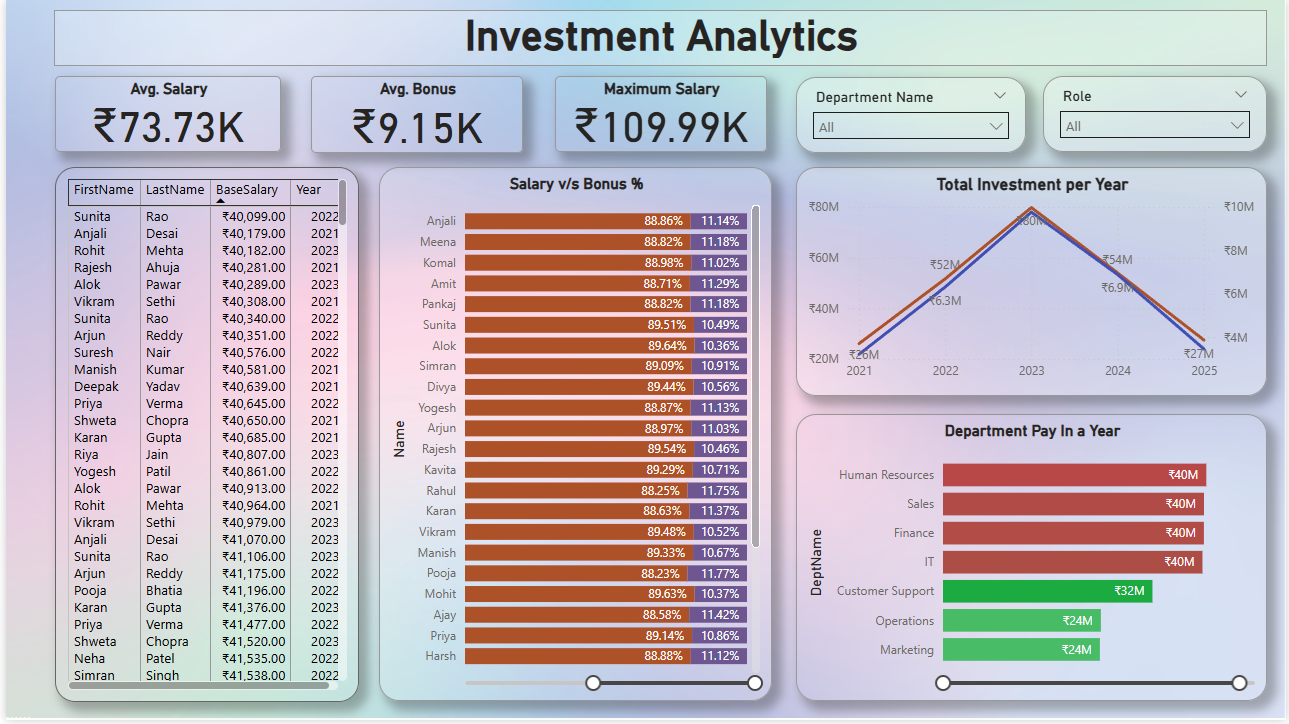

The page's visual inventory and layout, read from the dashboard file:
{"tool":"powerbi","page":{"name":"Investment","canvas":[1280,720],"ordinal":1},"visuals":[{"type":"card","title":"Avg. Salary","fields":{"Values":["Salaries.BaseSalary"]},"box":[49,75.9,225.8,75.9],"z":0},{"type":"card","title":"Avg. Bonus","fields":{"Values":["Salaries.Bonus"]},"box":[305.2,76.3,211.9,76.3],"z":1000},{"type":"tableEx","fields":{"Values":["Employees.FirstName","Employees.LastName","Salaries.BaseSalary","Salaries.EffectiveDate.Variation.Date Hierarchy.Year"]},"box":[49.4,167,303.4,535.1],"z":2000},{"type":"card","title":"Investment Analytics","fields":{"Values":["Employees.FirstName"]},"box":[48.5,9.9,1212.9,56.6],"z":3000},{"type":"hundredPercentStackedBarChart","title":"Salary v/s Bonus %","fields":{"Category":["Employees.FirstName","Employees.LastName"],"Y":["Salaries.BaseSalary","Salaries.Bonus"]},"box":[373.5,167,392.3,534.2],"z":4000},{"type":"clusteredBarChart","title":"Department Pay In a Year","fields":{"Category":["Departments.DeptName"],"Y":["Salaries.BaseSalary"]},"box":[790,413.9,471.3,287.3],"z":5000},{"type":"lineChart","title":"Total Investment per Year","fields":{"Y":["Salaries.BaseSalary"],"Y2":["Salaries.Bonus"],"Category":["Salaries.EffectiveDate.Variation.Date Hierarchy.Year"]},"box":[790,167,471.3,228.9],"z":6000},{"type":"card","title":"Maximum Salary","fields":{"Values":["Salaries.BaseSalary"]},"box":[549.4,76.3,211.9,75.4],"z":7000},{"type":"slicer","title":"Gender  Diversity across departments","fields":{"Values":["Departments.DeptName"]},"box":[790,77.2,229.8,75.4],"z":8000},{"type":"slicer","title":"Gender  Diversity across departments","fields":{"Values":["JobRoles.RoleName"]},"box":[1036.9,76.3,224.4,75.4],"z":9000}]}

Visuals, with their boxes in screenshot pixels (x1, y1, x2, y2), scaled from the page's 1280x720 canvas onto the 1289x724 screenshot:
"Avg. Salary" card: {"x1": 49, "y1": 76, "x2": 277, "y2": 153}
"Avg. Bonus" card: {"x1": 307, "y1": 77, "x2": 521, "y2": 153}
tableEx - Employees.FirstName x Employees.LastName: {"x1": 50, "y1": 168, "x2": 355, "y2": 706}
"Investment Analytics" card: {"x1": 49, "y1": 10, "x2": 1270, "y2": 67}
"Salary v/s Bonus %" hundredPercentStackedBarChart: {"x1": 376, "y1": 168, "x2": 771, "y2": 705}
"Department Pay In a Year" clusteredBarChart: {"x1": 796, "y1": 416, "x2": 1270, "y2": 705}
"Total Investment per Year" lineChart: {"x1": 796, "y1": 168, "x2": 1270, "y2": 398}
"Maximum Salary" card: {"x1": 553, "y1": 77, "x2": 767, "y2": 153}
"Gender  Diversity across departments" slicer: {"x1": 796, "y1": 78, "x2": 1027, "y2": 153}
"Gender  Diversity across departments" slicer: {"x1": 1044, "y1": 77, "x2": 1270, "y2": 153}
